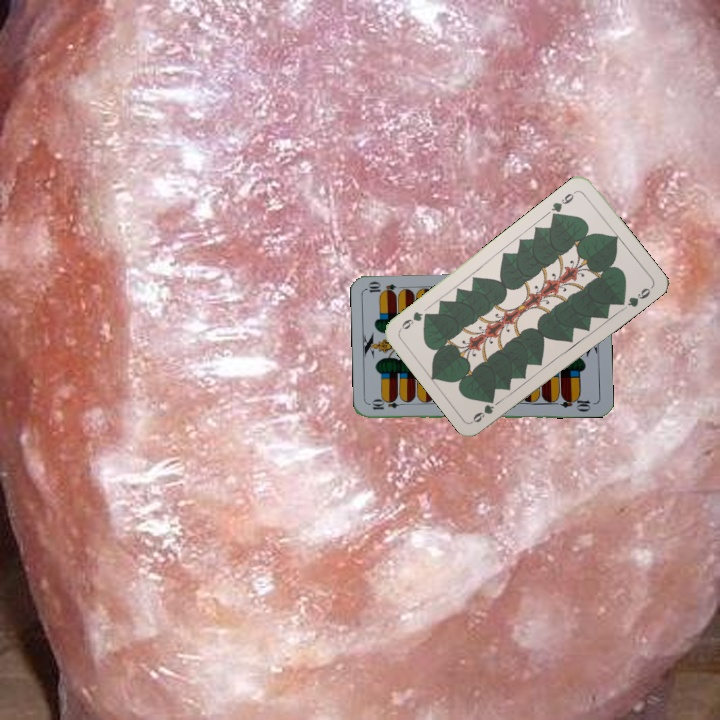E10: (368, 398, 408, 412)
G9: (547, 186, 579, 220), (469, 401, 497, 425)
